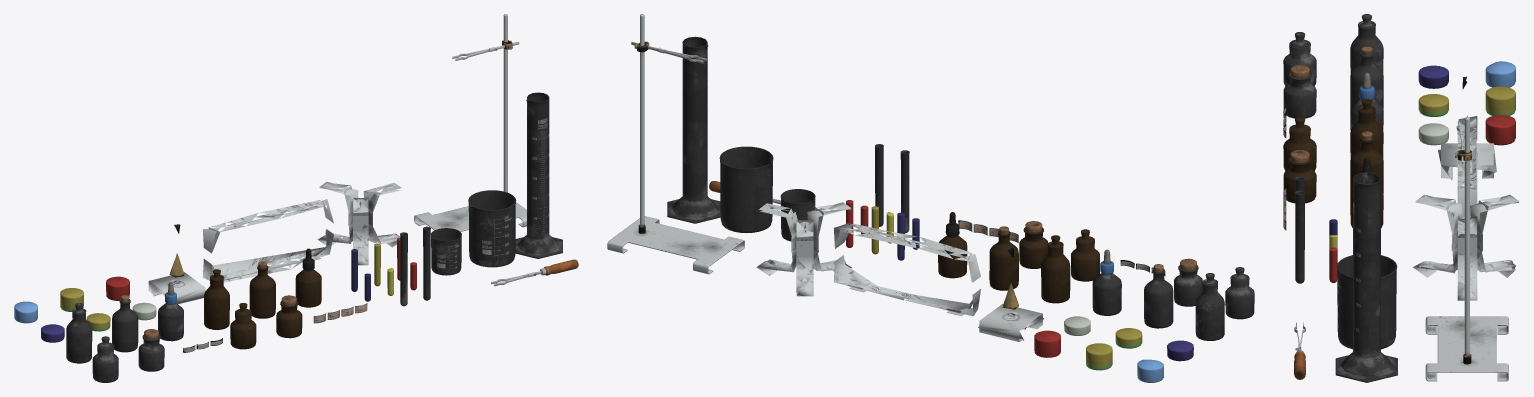
Rendered from chemistry_set.fbx.
3 views of the same model, side by side, from view 1: azimuth 30°, elevation 25°; view 2: azimuth 150°, elevation 25°; view 3: azimuth 270°, elevation 25° (orthographic). The views are drawn at different scales.
Parts seen in each view (by area): view 1: chemistry_set_beaker_large, chemistry_set_beaker_med, chemistry_set_test_tube_stand_a, chemistry_set_test_tube_stand_b, chemistry_set_clamp_stand, chemistry_set_beaker_small, chemistry_set_bunsen_burner, chemistry_set_bottle_clear_c, chemistry_set_bottle_dark_c, chemistry_set_bottle_dark_d, chemistry_set_bottle_clear_d, chemistry_set_bottle_dark_e (+11 smaller); view 2: chemistry_set_beaker_large, chemistry_set_clamp_stand, chemistry_set_beaker_med, chemistry_set_test_tube_stand_a, chemistry_set_test_tube_stand_b, chemistry_set_bunsen_burner, chemistry_set_bottle_clear_c, chemistry_set_bottle_dark_c, chemistry_set_bottle_clear_d, chemistry_set_bottle_dark_d, chemistry_set_bottle_clear_e, chemistry_set_bottle_clear_a (+10 smaller); view 3: chemistry_set_beaker_large, chemistry_set_clamp_stand, chemistry_set_test_tube_stand_b, chemistry_set_beaker_med, chemistry_set_bunsen_burner, chemistry_set_bottle_clear_b, chemistry_set_test_tube_stand_a, chemistry_set_bottle_clear_d, chemistry_set_bottle_dark_b, chemistry_set_bottle_dark_c, chemistry_set_bottle_clear_c, chemistry_set_bottle_dark_d (+15 smaller).
Part boxes in pixels (x1,y1,x2,y2): chemistry_set_beaker_large: (515,92,562,258); chemistry_set_beaker_med: (468,190,516,267); chemistry_set_test_tube_stand_a: (202,199,333,282); chemistry_set_test_tube_stand_b: (317,182,401,265); chemistry_set_clamp_stand: (414,14,526,231); chemistry_set_beaker_small: (430,228,461,275); chemistry_set_bunsen_burner: (148,224,205,304); chemistry_set_bottle_clear_c: (66,308,92,363); chemistry_set_bottle_dark_c: (204,275,229,329); chemistry_set_bottle_dark_d: (249,265,275,318); chemistry_set_bottle_clear_d: (112,299,138,352); chemistry_set_bottle_dark_e: (295,269,321,307); chemistry_set_beaker_large: (667,36,720,223); chemistry_set_clamp_stand: (607,14,744,274); chemistry_set_beaker_med: (719,146,773,232); chemistry_set_test_tube_stand_a: (833,223,980,316); chemistry_set_test_tube_stand_b: (756,202,851,296); chemistry_set_bunsen_burner: (978,247,1043,341); chemistry_set_bottle_clear_c: (1195,279,1224,340); chemistry_set_bottle_dark_c: (1041,241,1070,303); chemistry_set_bottle_clear_d: (1144,268,1173,328); chemistry_set_bottle_dark_d: (989,231,1018,290); chemistry_set_bottle_clear_e: (1092,273,1121,315); chemistry_set_bottle_clear_a: (1225,274,1254,319); chemistry_set_beaker_large: (1335,172,1397,382); chemistry_set_clamp_stand: (1425,117,1508,381); chemistry_set_test_tube_stand_b: (1413,194,1519,300); chemistry_set_beaker_med: (1336,255,1397,349); chemistry_set_bunsen_burner: (1438,76,1496,180); chemistry_set_bottle_clear_b: (1283,72,1316,118); chemistry_set_test_tube_stand_a: (1457,116,1477,218); chemistry_set_bottle_clear_d: (1350,51,1383,109); chemistry_set_bottle_dark_b: (1283,157,1316,203); chemistry_set_bottle_dark_c: (1350,106,1383,158); chemistry_set_bottle_clear_c: (1350,21,1383,73); chemistry_set_bottle_dark_d: (1350,136,1383,194).
Bounding box in the file's own units: 108 × 42.9 × 35.32.
2 materials, 2 textured.
